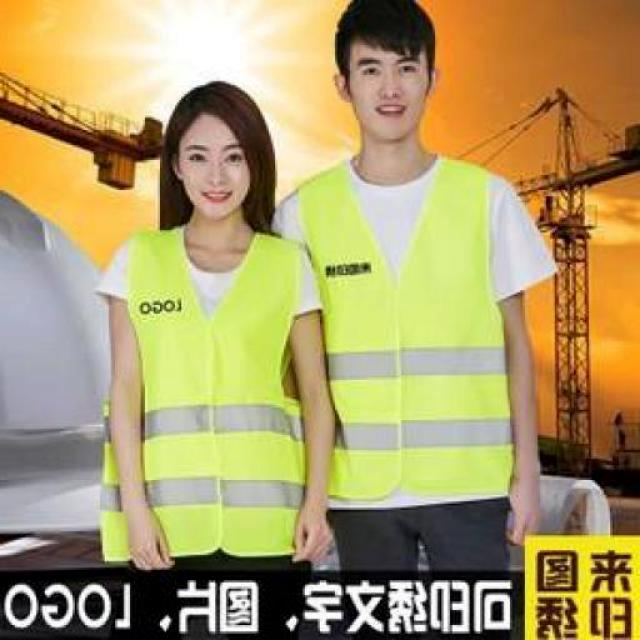no_head_wear: (160, 81, 274, 234), (335, 0, 434, 74)
person: (280, 0, 552, 570), (100, 81, 332, 570)
